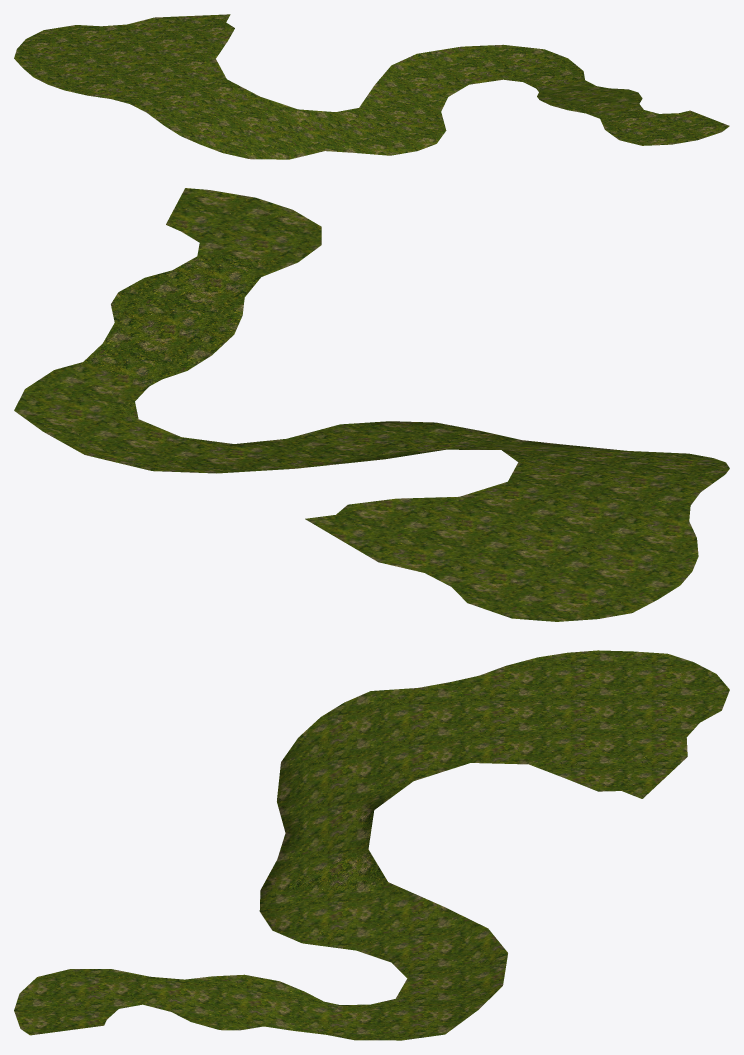
The model's file is OVERHILL_A_01_SHAPE02.fbx.
3 views of the same model, one above another, from view 1: azimuth 30°, elevation 25°; view 2: azimuth 150°, elevation 25°; view 3: azimuth 270°, elevation 25° (orthographic). The views are drawn at different scales.
Parts seen in each view (by area): view 1: OVERHILL_A_01_SHAPE02; view 2: OVERHILL_A_01_SHAPE02; view 3: OVERHILL_A_01_SHAPE02.
Boxes of the visible parts, box(x1,y1,x2,y2) form: OVERHILL_A_01_SHAPE02: box(14, 14, 729, 159); OVERHILL_A_01_SHAPE02: box(14, 188, 729, 621); OVERHILL_A_01_SHAPE02: box(14, 650, 729, 1040).
Size of the model in its own units: 203816 by 21088 by 176787.
Materials: 1 (1 with a texture image).
